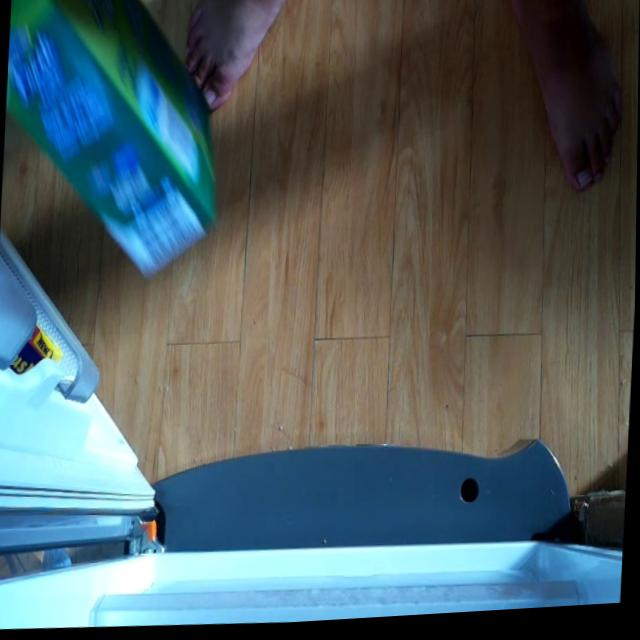milk: (0, 0, 236, 290)
